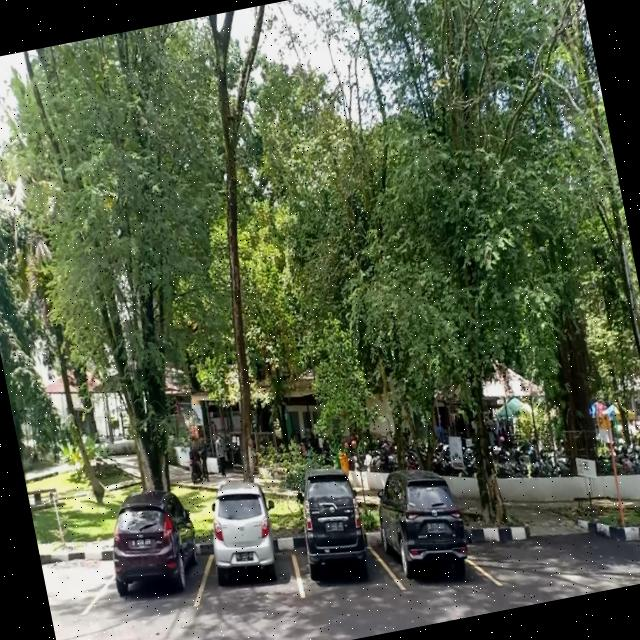occupied: (373, 488, 488, 594), (197, 498, 302, 608), (103, 518, 212, 618), (285, 495, 388, 600)
